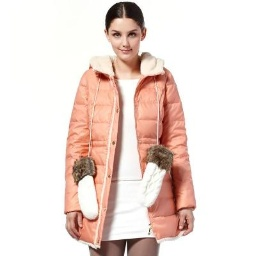face: (101, 1, 150, 63)
